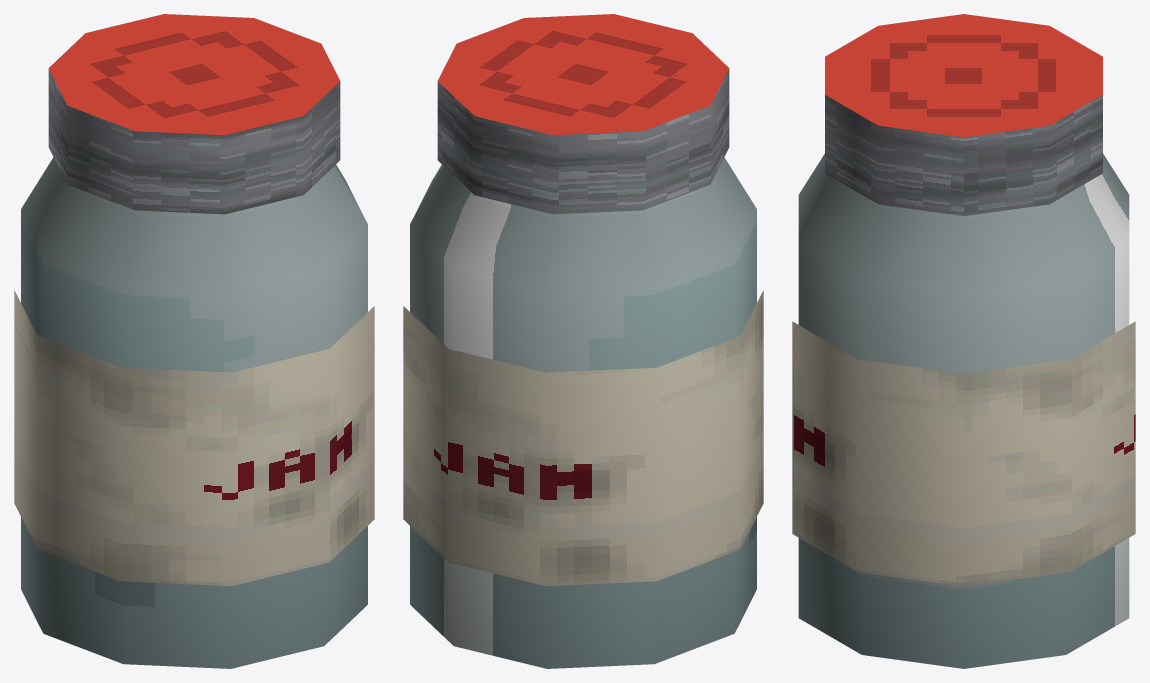
File: jar_jam.glb
3 views of the same model, side by side, from view 1: azimuth 30°, elevation 25°; view 2: azimuth 150°, elevation 25°; view 3: azimuth 270°, elevation 25° (orthographic).
Parts seen in each view (by area): view 1: jar_jam, jar_jam_lid; view 2: jar_jam, jar_jam_lid; view 3: jar_jam, jar_jam_lid.
Part boxes in pixels (x1,y1,x2,y2): jar_jam: [14, 157, 374, 668]; jar_jam_lid: [48, 14, 340, 214]; jar_jam: [403, 157, 763, 668]; jar_jam_lid: [437, 14, 729, 214]; jar_jam: [792, 154, 1135, 668]; jar_jam_lid: [825, 14, 1102, 215].
Bounding box in the file's own units: 0.083 × 0.132 × 0.0789.
Materials: 2 (2 with a texture image).
